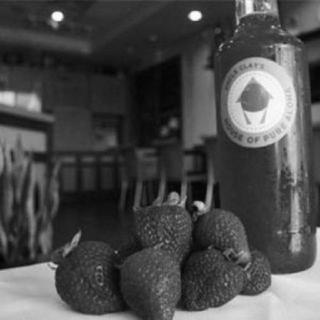other: (214, 8, 316, 276)
